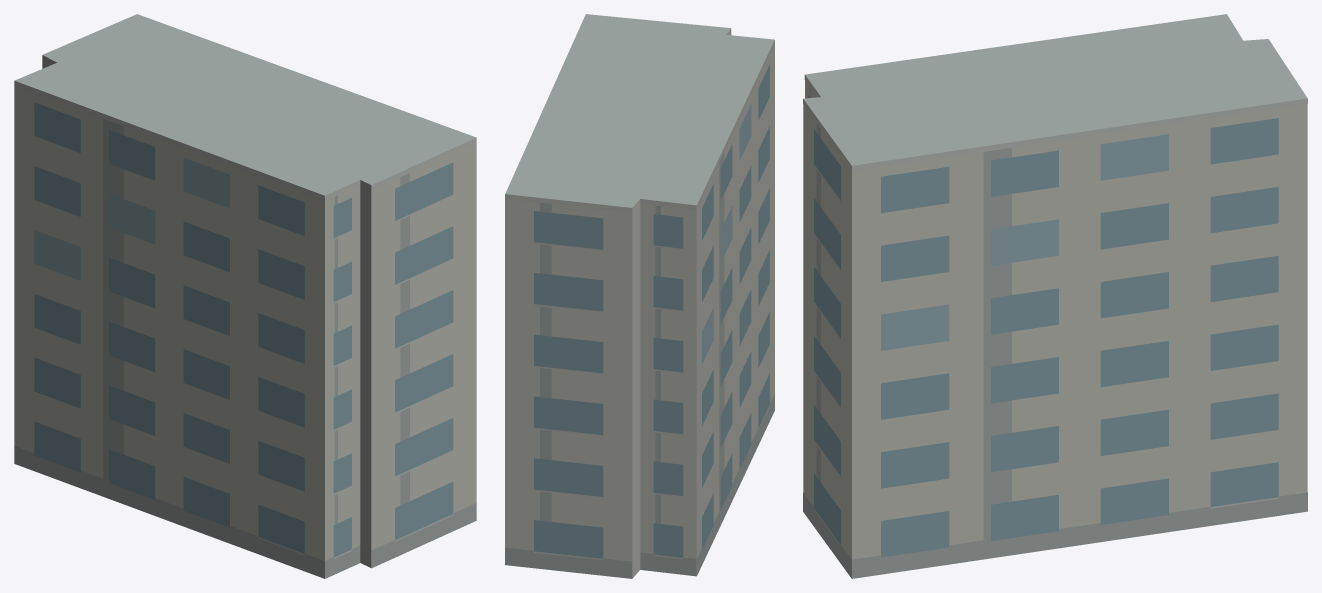
The model's file is survey-upis-32810769.glb.
The picture shows the model from 3 angles, left to right: view 1: azimuth 30°, elevation 25°; view 2: azimuth 150°, elevation 25°; view 3: azimuth 270°, elevation 25°; orthographic projection. The views are drawn at different scales.
Visible parts, largest first — view 1: survey-upis-32810769.tmp; view 2: survey-upis-32810769.tmp; view 3: survey-upis-32810769.tmp.
Part boxes in pixels (x1,y1,x2,y2): survey-upis-32810769.tmp: (14,14,476,578); survey-upis-32810769.tmp: (505,14,774,578); survey-upis-32810769.tmp: (803,14,1307,578).
Size of the model in its own units: 14.43 by 18.3 by 20.27.
